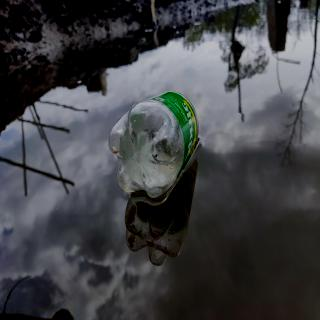bottle: (106, 88, 201, 202)
